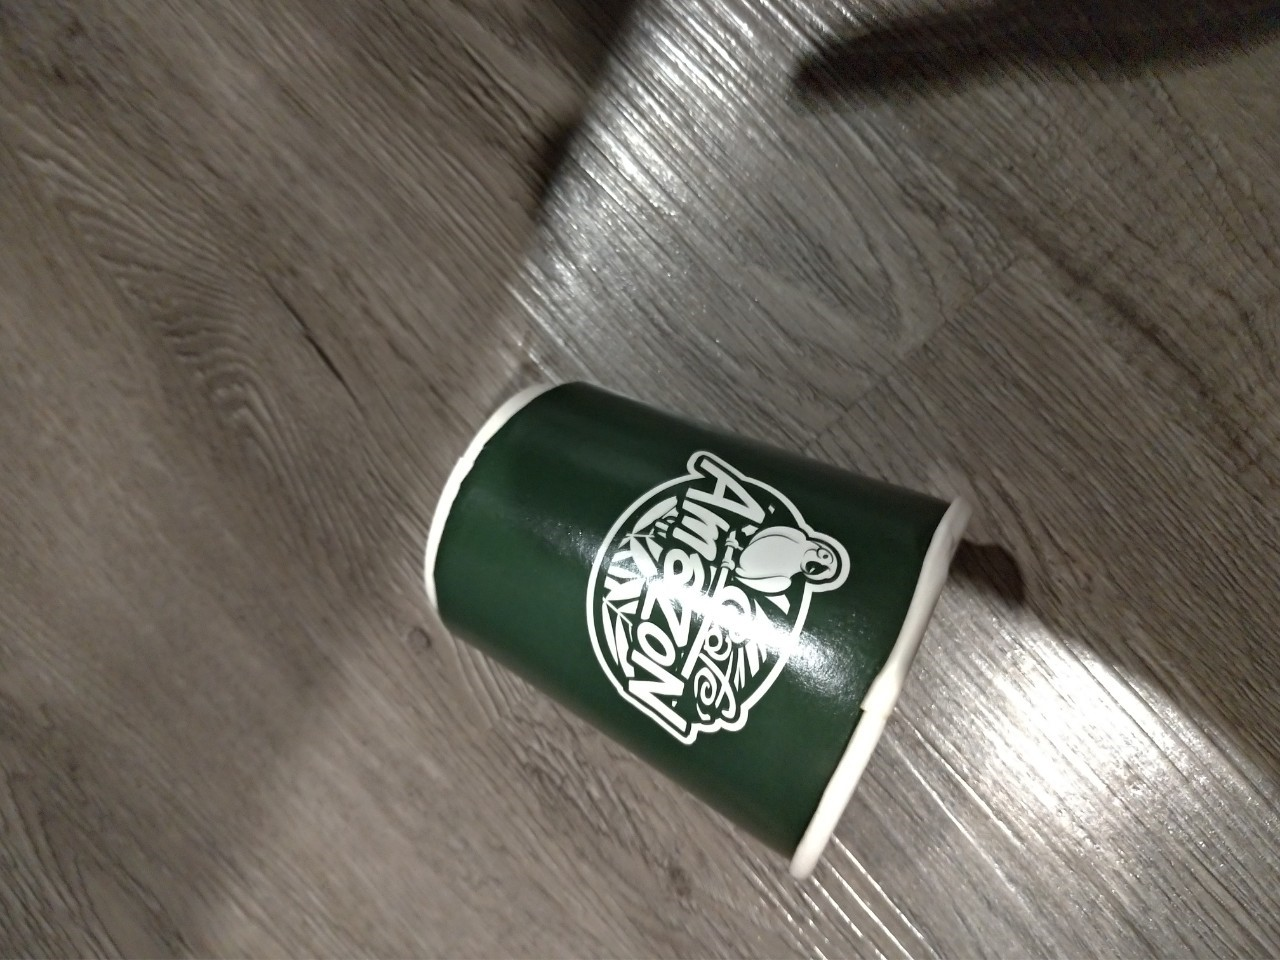PaperCup: (418, 378, 976, 877)
